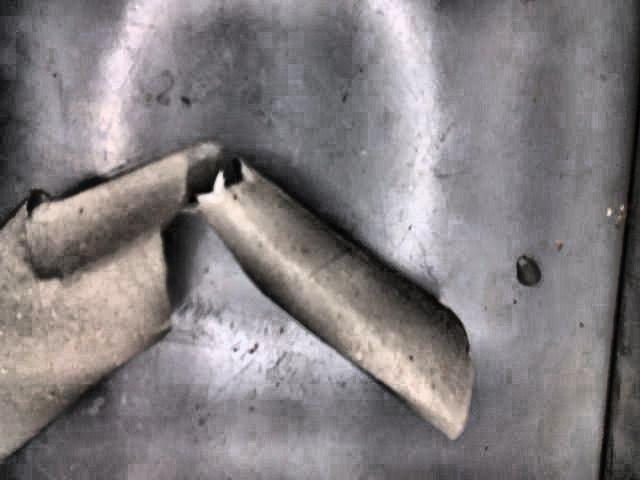Paper: (0, 147, 471, 467)
